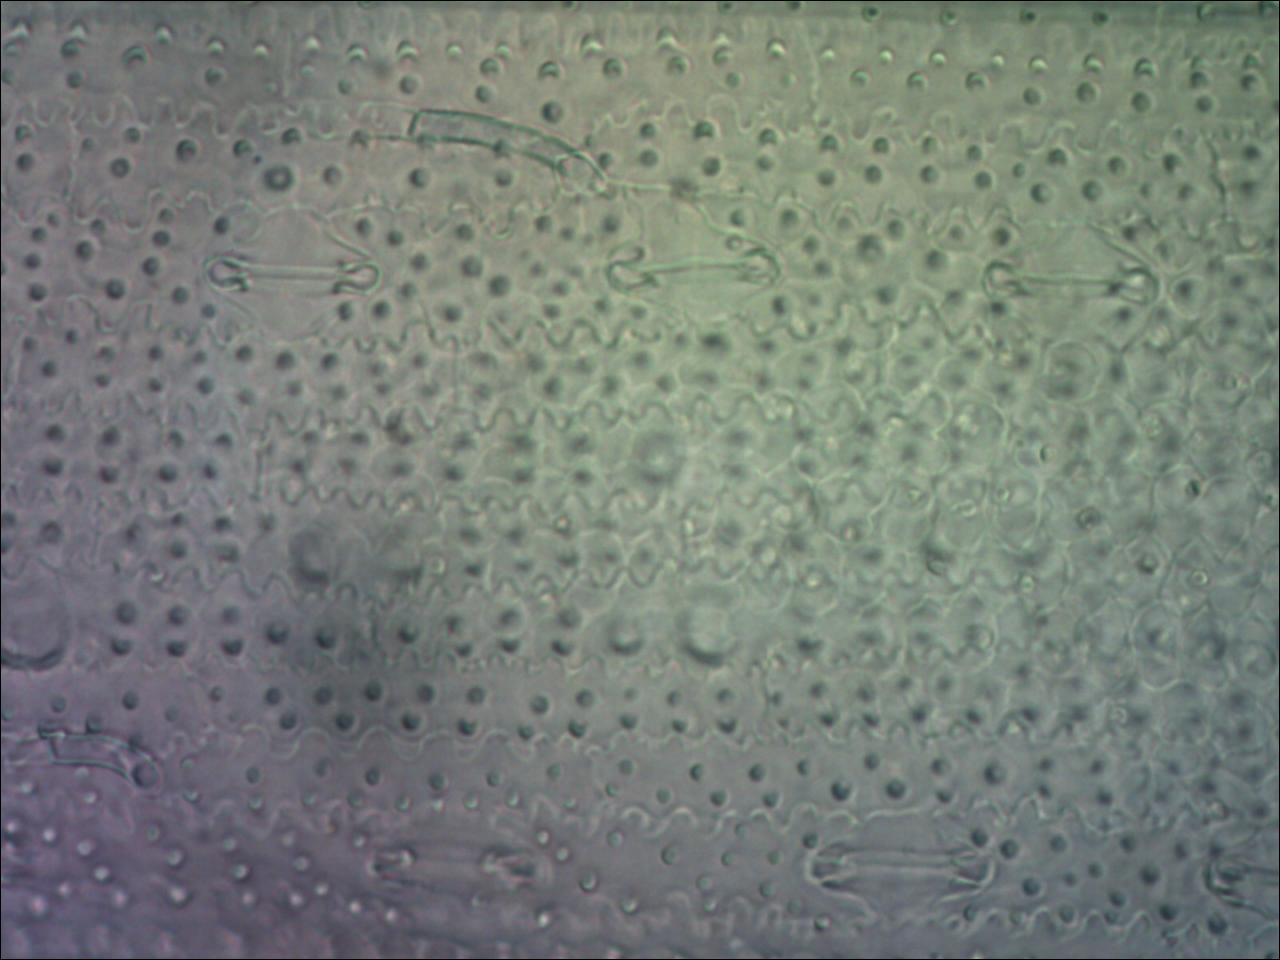stoma: (187, 206, 389, 329), (977, 212, 1162, 338), (805, 814, 991, 923), (363, 808, 550, 913), (597, 221, 784, 321), (1192, 833, 1280, 908)
